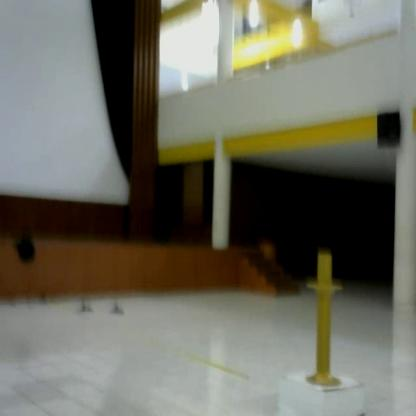pole: (302, 251, 350, 393)
